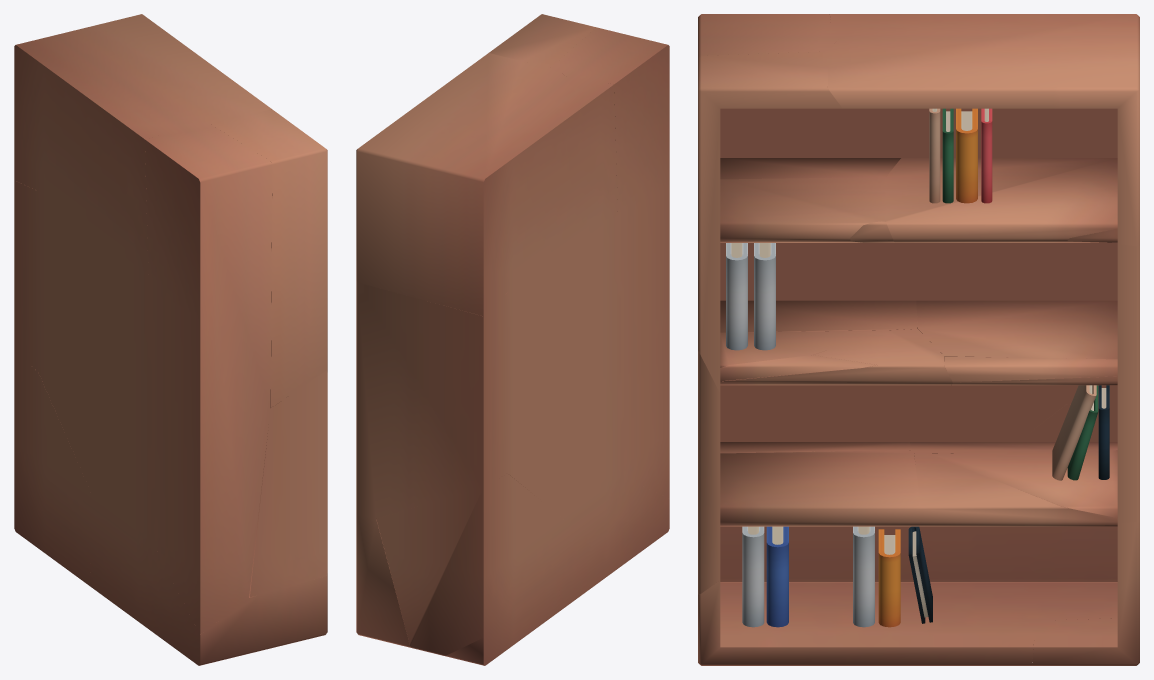
File: Shelves4.fbx
3 views of the same model, side by side, from view 1: azimuth 30°, elevation 25°; view 2: azimuth 150°, elevation 25°; view 3: azimuth 270°, elevation 25° (orthographic). The views are drawn at different scales.
Visible parts, largest first — view 1: BookShelves2.001_cell.005, BookShelves2.001_cell.003, BookShelves2.001_cell.010, BookShelves2.001_cell.009, BookShelves2.001_cell.002, BookShelves2.001_cell.004, BookShelves2.001_cell.001, BookShelves2.001_cell.008, BookShelves2.001_cell.007; view 2: BookShelves2.001_cell.010, BookShelves2.001_cell.003, BookShelves2.001_cell.008, BookShelves2.001_cell.005, BookShelves2.001_cell.001, BookShelves2.001_cell.002, BookShelves2.001_cell.006, BookShelves2.001_cell.009, BookShelves2.001_cell.007; view 3: BookShelves2.001_cell.010, BookShelves2.001_cell.003, BookShelves2.001_cell.002, BookShelves2.001_cell.005, BookShelves2.002_cell.007, BookShelves2.002_cell.002, BookShelves2.001_cell.001, BookShelves2.001_cell.009, BookShelves2.002_cell.010, BookShelves2.002_cell.011, BookShelves2.001_cell.008, BookShelves2.002_cell.004 (+27 smaller).
Boxes of the visible parts, bbox=[...] form: BookShelves2.001_cell.005: bbox=[145, 124, 272, 634]; BookShelves2.001_cell.003: bbox=[38, 125, 193, 548]; BookShelves2.001_cell.010: bbox=[14, 14, 271, 190]; BookShelves2.001_cell.009: bbox=[210, 109, 327, 407]; BookShelves2.001_cell.002: bbox=[90, 502, 327, 665]; BookShelves2.001_cell.004: bbox=[249, 370, 327, 597]; BookShelves2.001_cell.001: bbox=[14, 351, 94, 566]; BookShelves2.001_cell.008: bbox=[14, 180, 38, 371]; BookShelves2.001_cell.007: bbox=[14, 502, 90, 586]; BookShelves2.001_cell.010: bbox=[356, 53, 595, 316]; BookShelves2.001_cell.003: bbox=[507, 73, 625, 519]; BookShelves2.001_cell.008: bbox=[356, 281, 507, 518]; BookShelves2.001_cell.005: bbox=[551, 27, 669, 498]; BookShelves2.001_cell.001: bbox=[376, 473, 564, 655]; BookShelves2.001_cell.002: bbox=[559, 478, 669, 610]; BookShelves2.001_cell.006: bbox=[356, 512, 411, 647]; BookShelves2.001_cell.009: bbox=[489, 14, 595, 67]; BookShelves2.001_cell.007: bbox=[445, 592, 559, 665]; BookShelves2.001_cell.010: bbox=[828, 14, 1139, 246]; BookShelves2.001_cell.003: bbox=[808, 14, 1066, 441]; BookShelves2.001_cell.002: bbox=[698, 526, 1035, 665]; BookShelves2.001_cell.005: bbox=[698, 14, 833, 540]; BookShelves2.002_cell.007: bbox=[886, 158, 1117, 242]; BookShelves2.002_cell.002: bbox=[720, 450, 920, 526]; BookShelves2.001_cell.001: bbox=[967, 400, 1117, 620]; BookShelves2.001_cell.009: bbox=[698, 51, 842, 392]; BookShelves2.002_cell.010: bbox=[916, 300, 1117, 359]; BookShelves2.002_cell.011: bbox=[720, 177, 885, 242]; BookShelves2.001_cell.008: bbox=[1066, 242, 1139, 523]; BookShelves2.002_cell.004: bbox=[914, 453, 1117, 526].
Bounding box in the file's own units: 1.53 × 0.6103 × 2.21.
